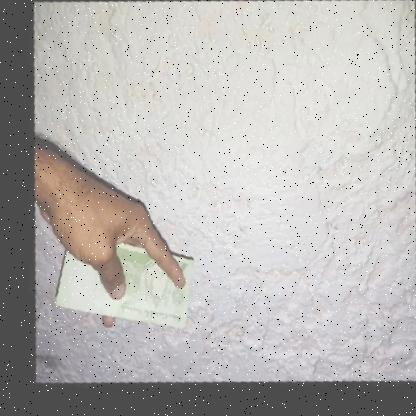fifty-back-vef: (43, 228, 195, 340)
